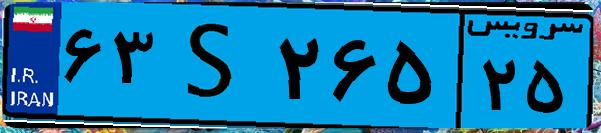2: (270, 28, 330, 110), (475, 38, 525, 113)
3: (110, 28, 158, 98)
5: (385, 28, 445, 110), (525, 38, 570, 115)
6: (330, 28, 385, 110), (57, 26, 110, 100)
S: (158, 12, 270, 120)
